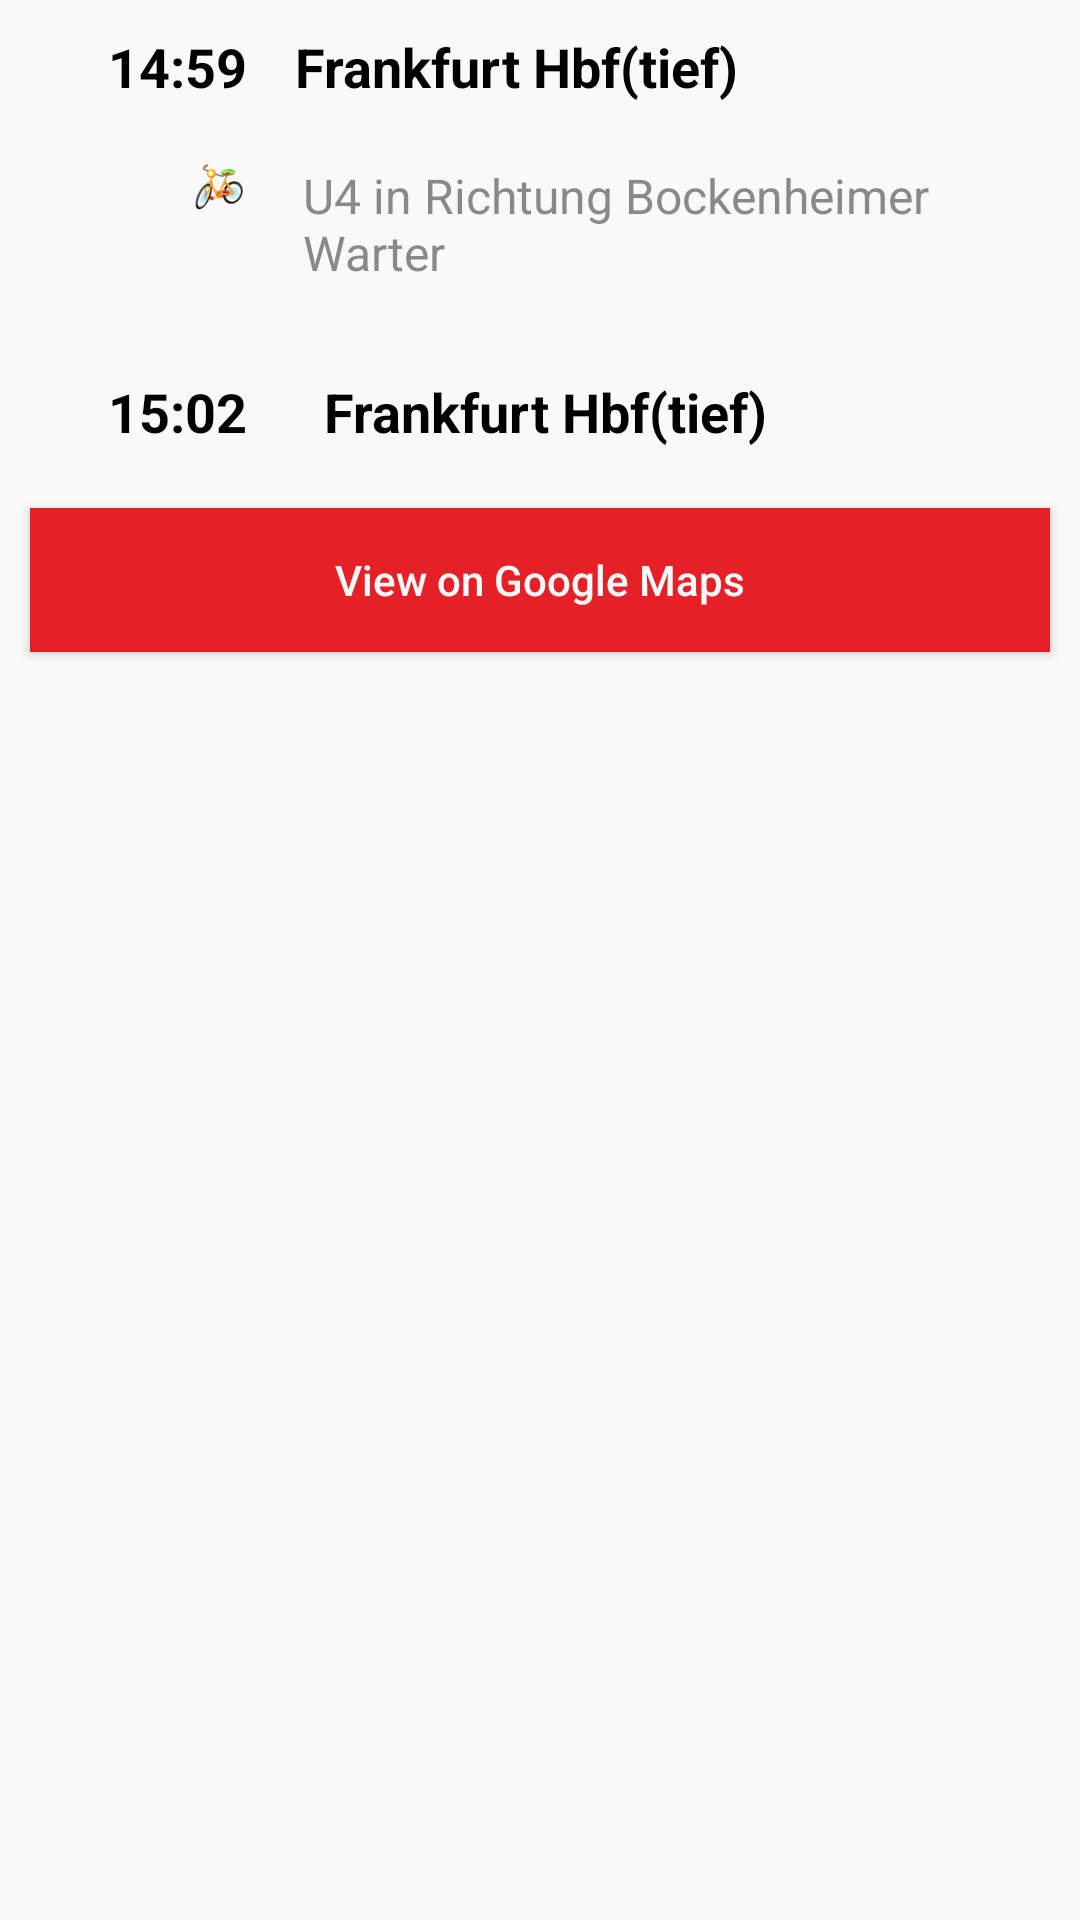

Icons on this 1080*1920 Android screen, each with the point to tap as point (x, y):
bicycle: point (219, 187)
